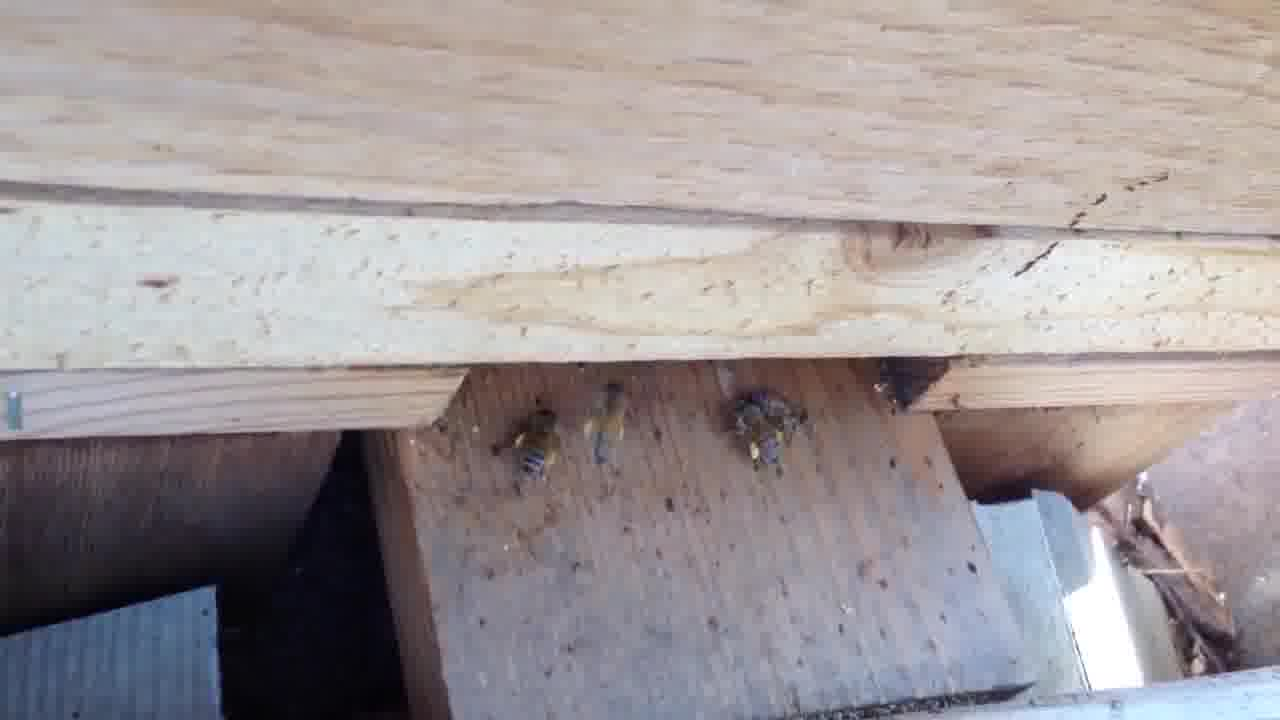pollen: (717, 400, 791, 479), (580, 378, 635, 479), (506, 400, 567, 489)
